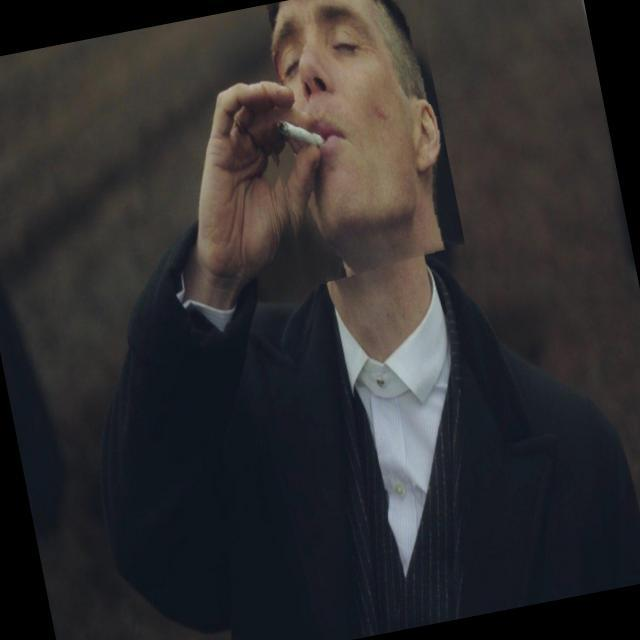cigarette: (255, 91, 327, 174)
